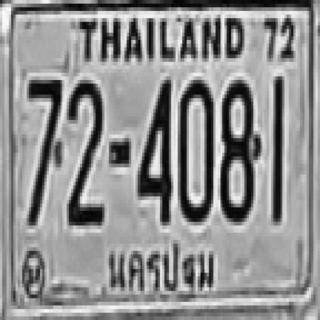N00: (177, 76, 212, 218)
N01: (271, 76, 282, 222)
N02: (67, 78, 102, 224)
N04: (136, 76, 171, 222)
N07: (27, 76, 60, 222)
N08: (219, 76, 257, 218)
P28: (102, 235, 224, 299)
